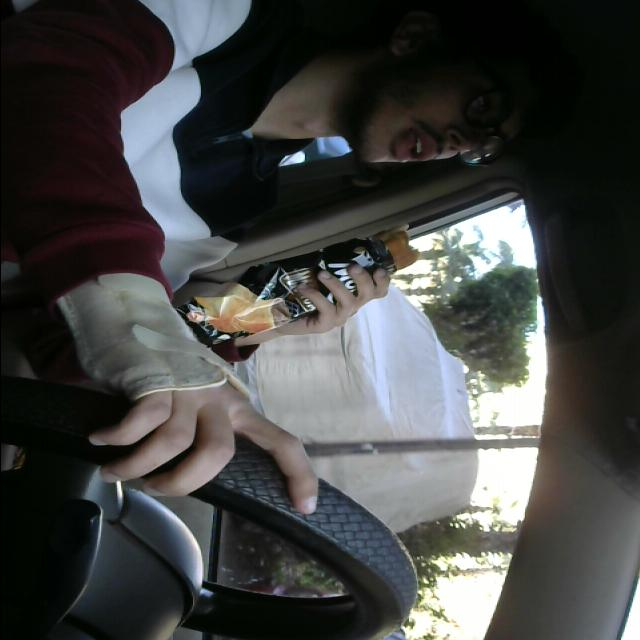eating: (167, 227, 430, 355)
